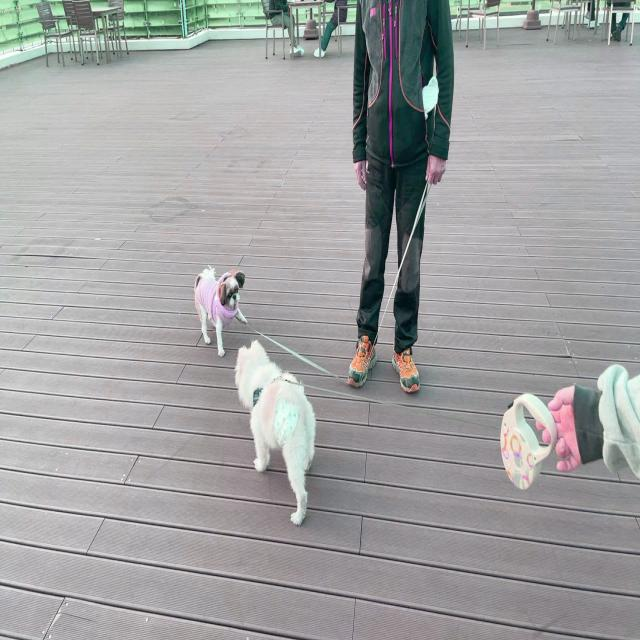Leashed_Dog: (234, 336, 640, 525), (193, 141, 447, 389)
